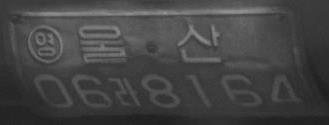0: (32, 72, 72, 110)
1: (181, 73, 214, 110)
4: (269, 72, 304, 109)
6: (220, 71, 263, 108), (72, 72, 113, 110)
8: (142, 72, 180, 109)
라: (113, 76, 141, 107)
영: (26, 23, 64, 64)
울산_D: (77, 23, 222, 62)
